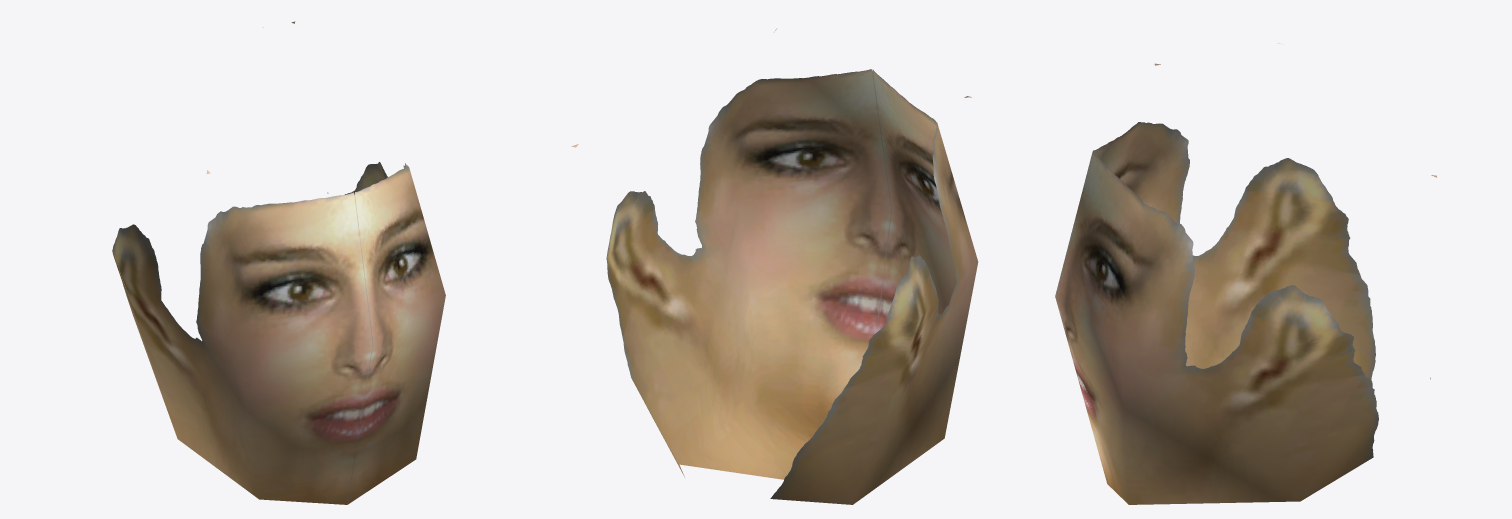
File: head_iber_healer.dae
3 renders of one model, left to right at view 1: azimuth 30°, elevation 25°; view 2: azimuth 150°, elevation 25°; view 3: azimuth 270°, elevation 25°, orthographic. The views are drawn at different scales.
Visible parts, largest first — view 1: Circle_001; view 2: Circle_001; view 3: Circle_001.
Part boxes in pixels (x1,y1,x2,y2): Circle_001: [112, 21, 445, 504]; Circle_001: [571, 28, 978, 504]; Circle_001: [1055, 43, 1436, 504].
Size of the model in its own units: 0.5982 by 0.6007 by 0.6702.
